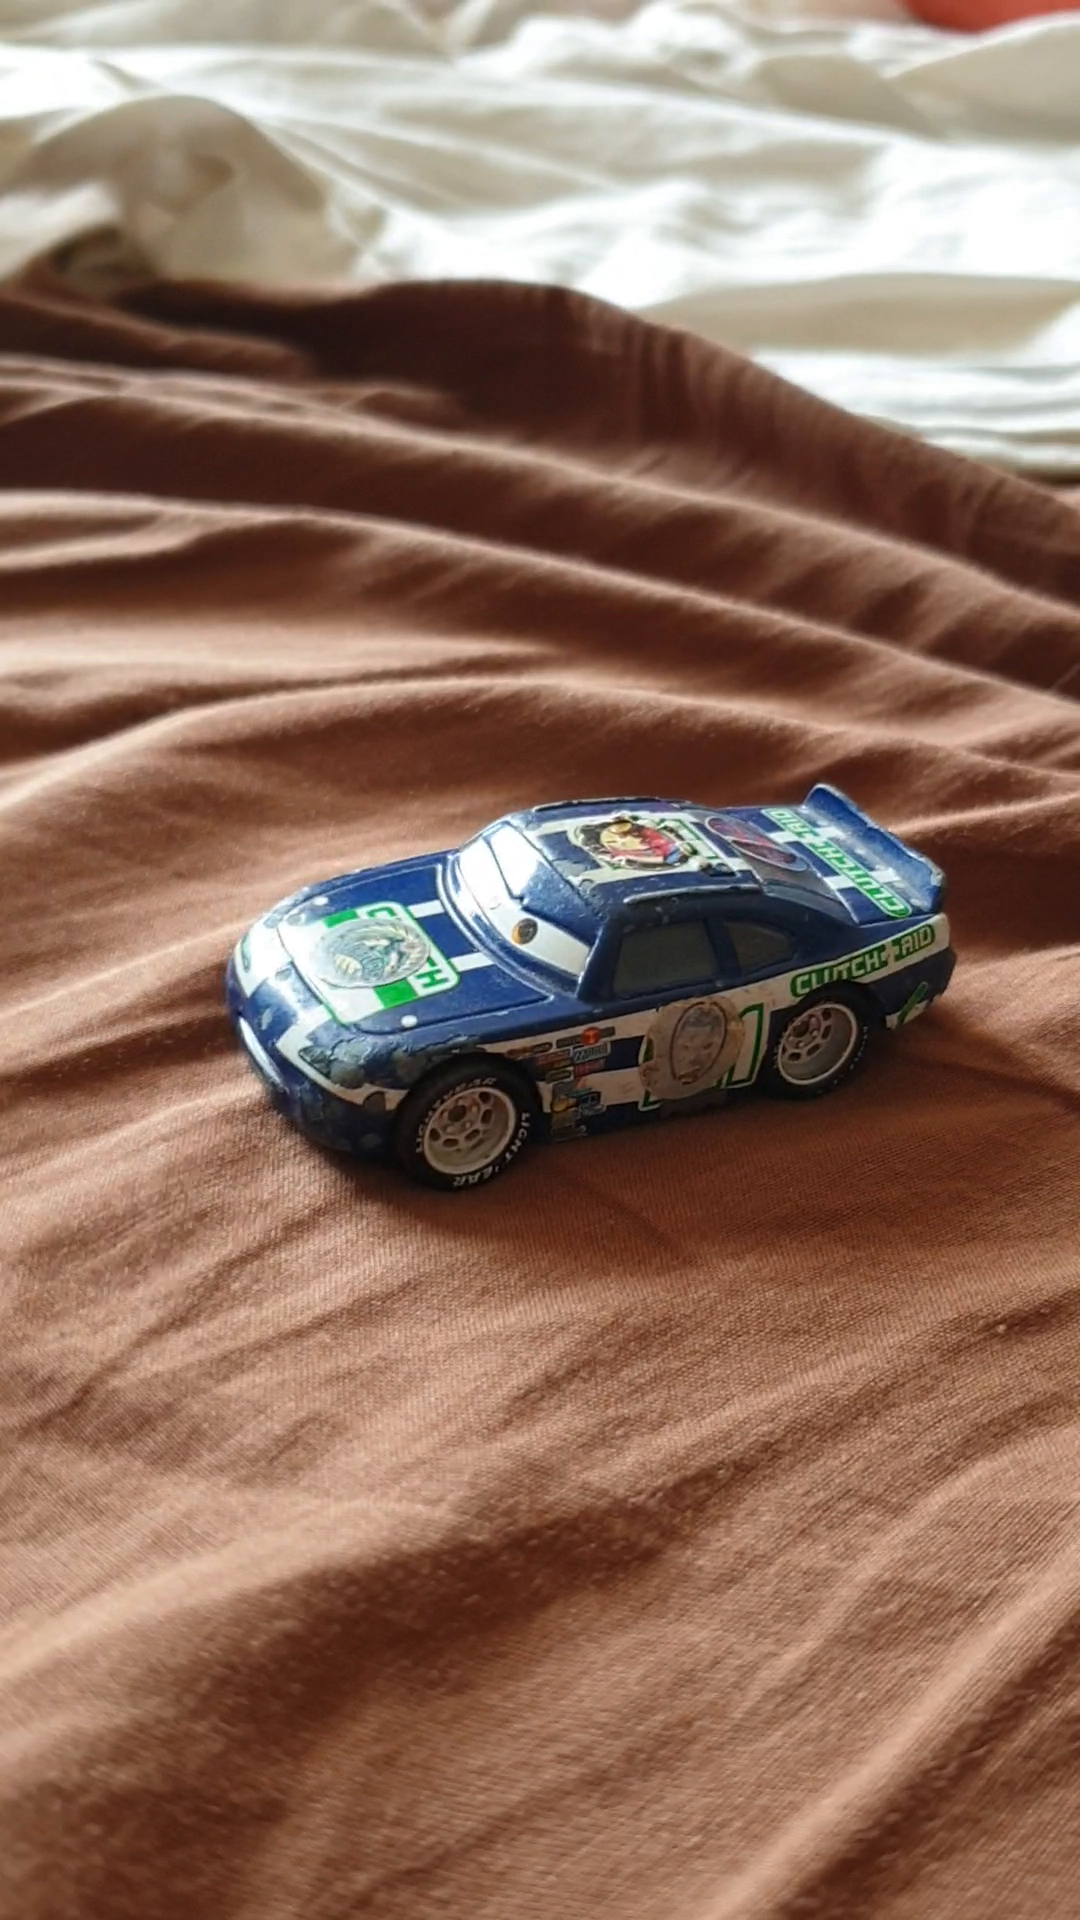cars: (224, 781, 949, 1218)
